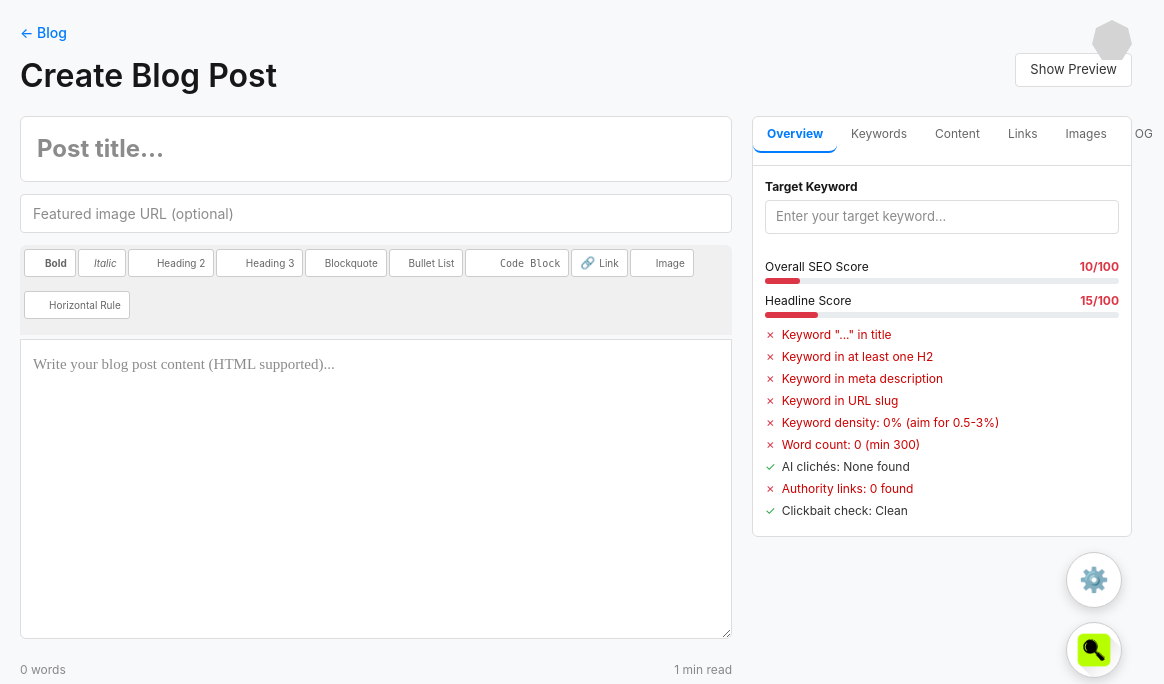
Test case: BlogEditorPage › shows preview panel when toggled
Click the button with test id "toggle-preview". click: x=1074, y=70
box: [1015,53,1132,87]
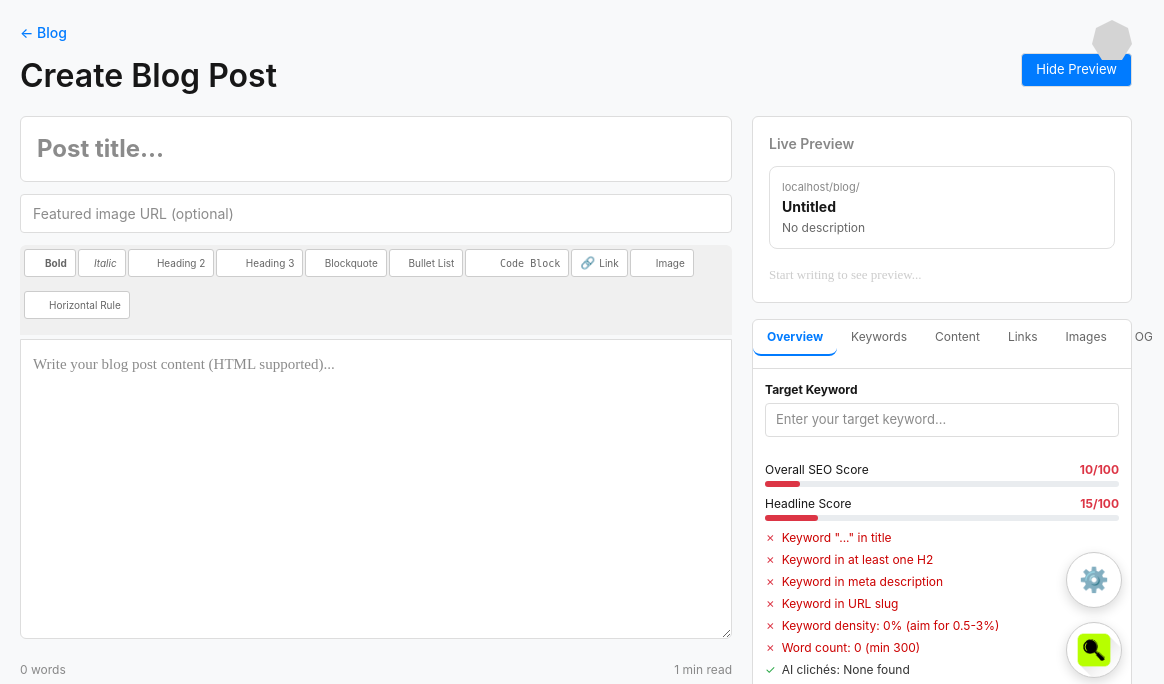
expect the element with test id "live-preview" is shown: met, box [752,116,1132,303]
expect the element with test id "link-card-preview" is shown: met, box [769,166,1115,250]
